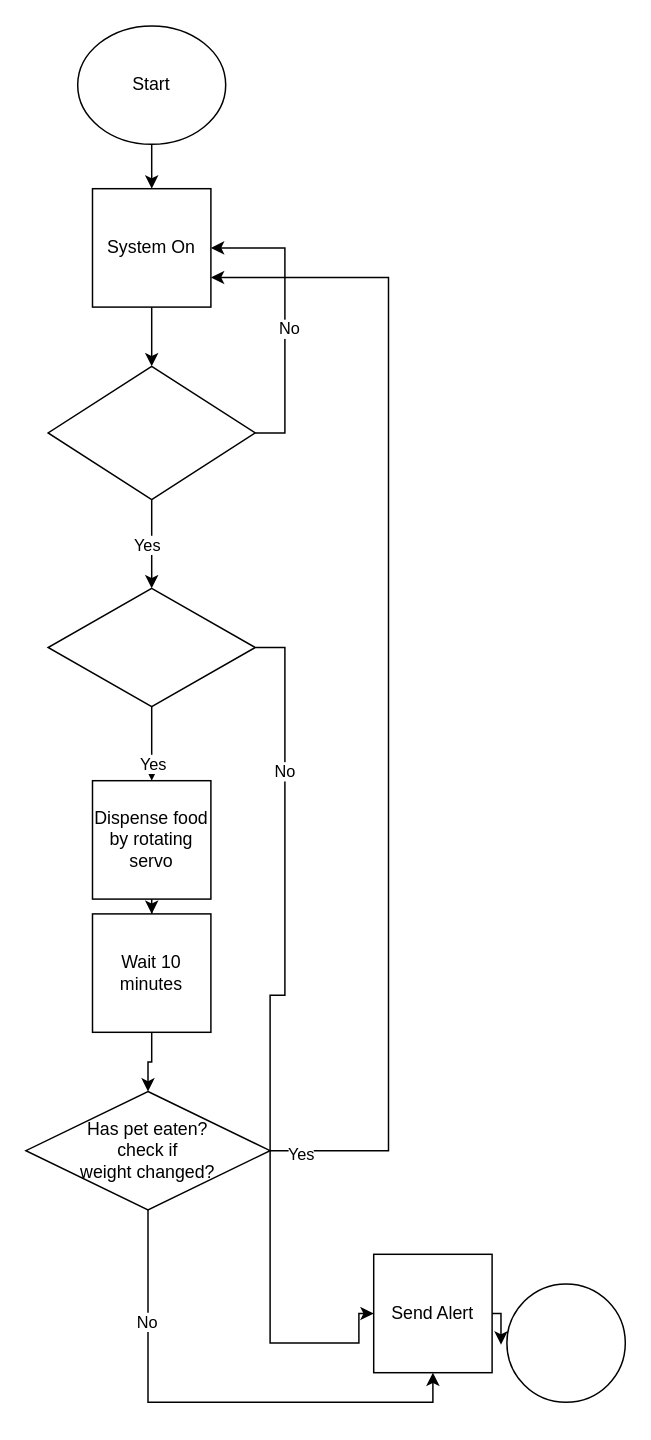
This 651x1440 diagram has some shape labels left out. The shapes that lost their labels are listed below. From the top down, each one's centre as x and y in pixels, then its label:
At (x=151, y=432): "Feeding time? (8AM or 6pm)".
At (x=151, y=647): "Is there food in container?".
At (x=565, y=1342): "End".
